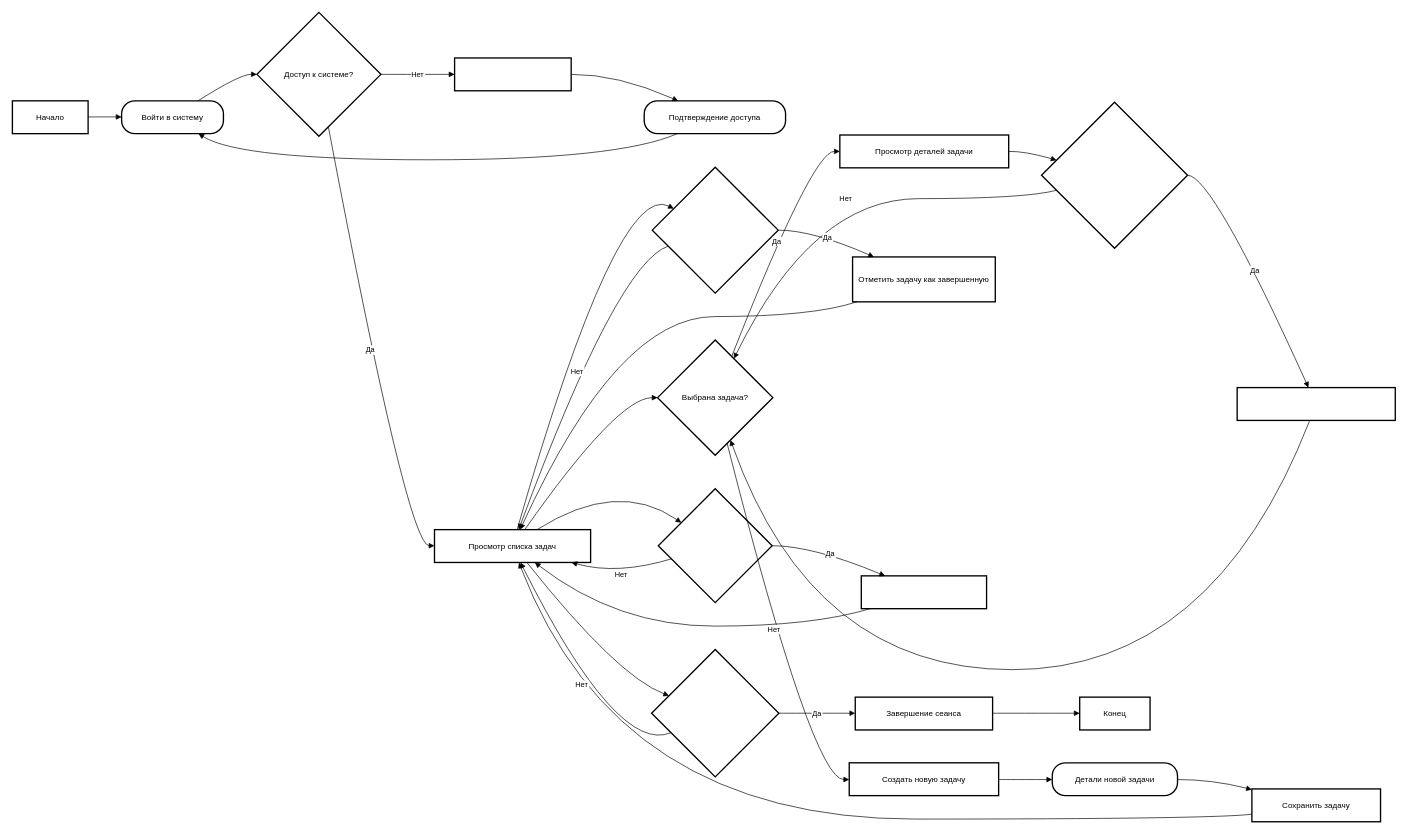
Some shapes in this 1407 by 833 pixel diagram are drawn without their labels. The shapes that lost their labels are listed below. From the top down, each one's box as (x1, y1, x2, y2) in pixels, then its label:
(454, 57, 572, 91): Запрос доступа
(1041, 101, 1188, 249): Редактировать задачу?
(651, 166, 779, 293): Завершить задачу?
(1236, 387, 1396, 421): Редактирование задачи
(657, 488, 773, 603): Удалить задачу?
(860, 575, 987, 609): Удаление задачи
(651, 649, 779, 777): Выход из системы?
